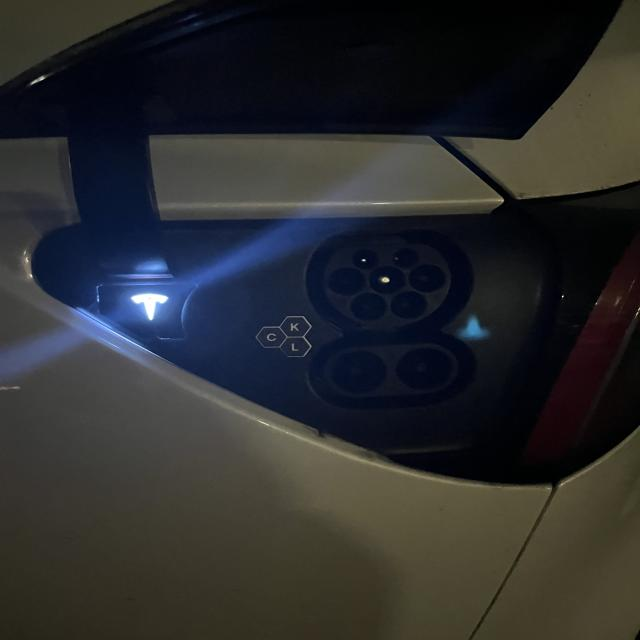inlet: (323, 243, 451, 327)
inlet-above-left: (353, 249, 380, 269)
inlet-above-right: (391, 248, 420, 267)
inlet-below-left: (351, 292, 389, 321)
inlet-below-right: (390, 291, 428, 320)
inlet-circle: (368, 265, 406, 294)
inlet-circle-left: (329, 268, 367, 295)
inlet-circle-right: (408, 264, 446, 293)
inlet-minus: (396, 348, 452, 389)
inlet-plus: (330, 351, 386, 392)
